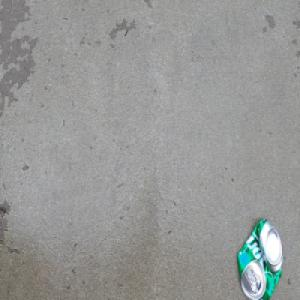SodaCan: (236, 218, 284, 300)
